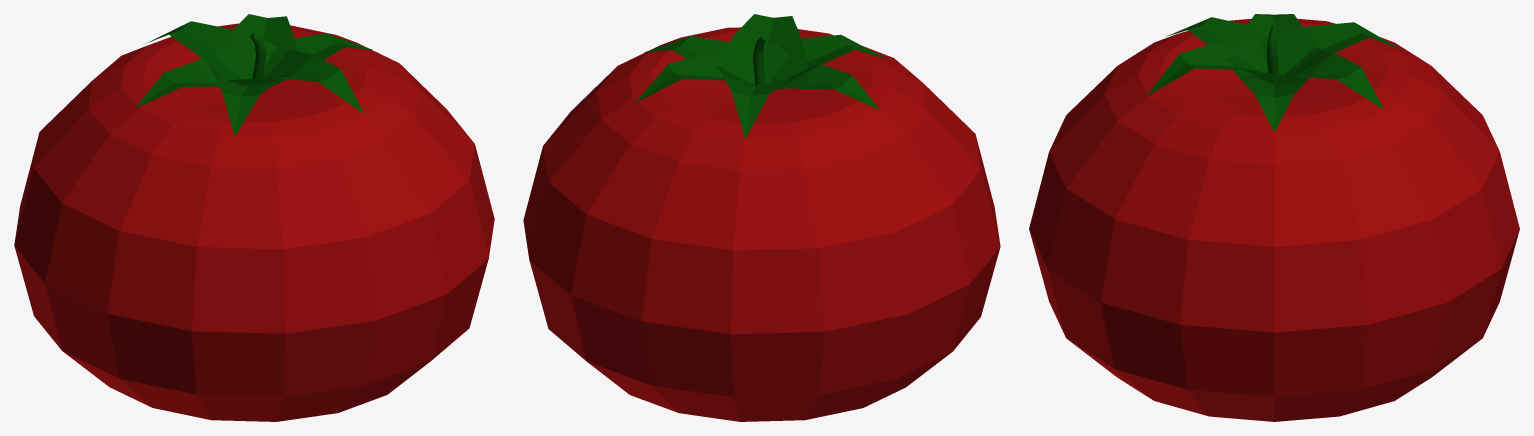
File: tomato.obj
The picture shows the model from 3 angles, left to right: view 1: azimuth 30°, elevation 25°; view 2: azimuth 150°, elevation 25°; view 3: azimuth 270°, elevation 25°; orthographic projection. The views are drawn at different scales.
Parts seen in each view (by area): view 1: BézierCurve; view 2: BézierCurve; view 3: BézierCurve.
Part boxes in pixels (x1=…): BézierCurve: x1=14, y1=14, x2=494, y2=421; BézierCurve: x1=523, y1=14, x2=1000, y2=421; BézierCurve: x1=1029, y1=14, x2=1519, y2=421.
Bounding box in the file's own units: 0.1869 × 0.1521 × 0.1869.
